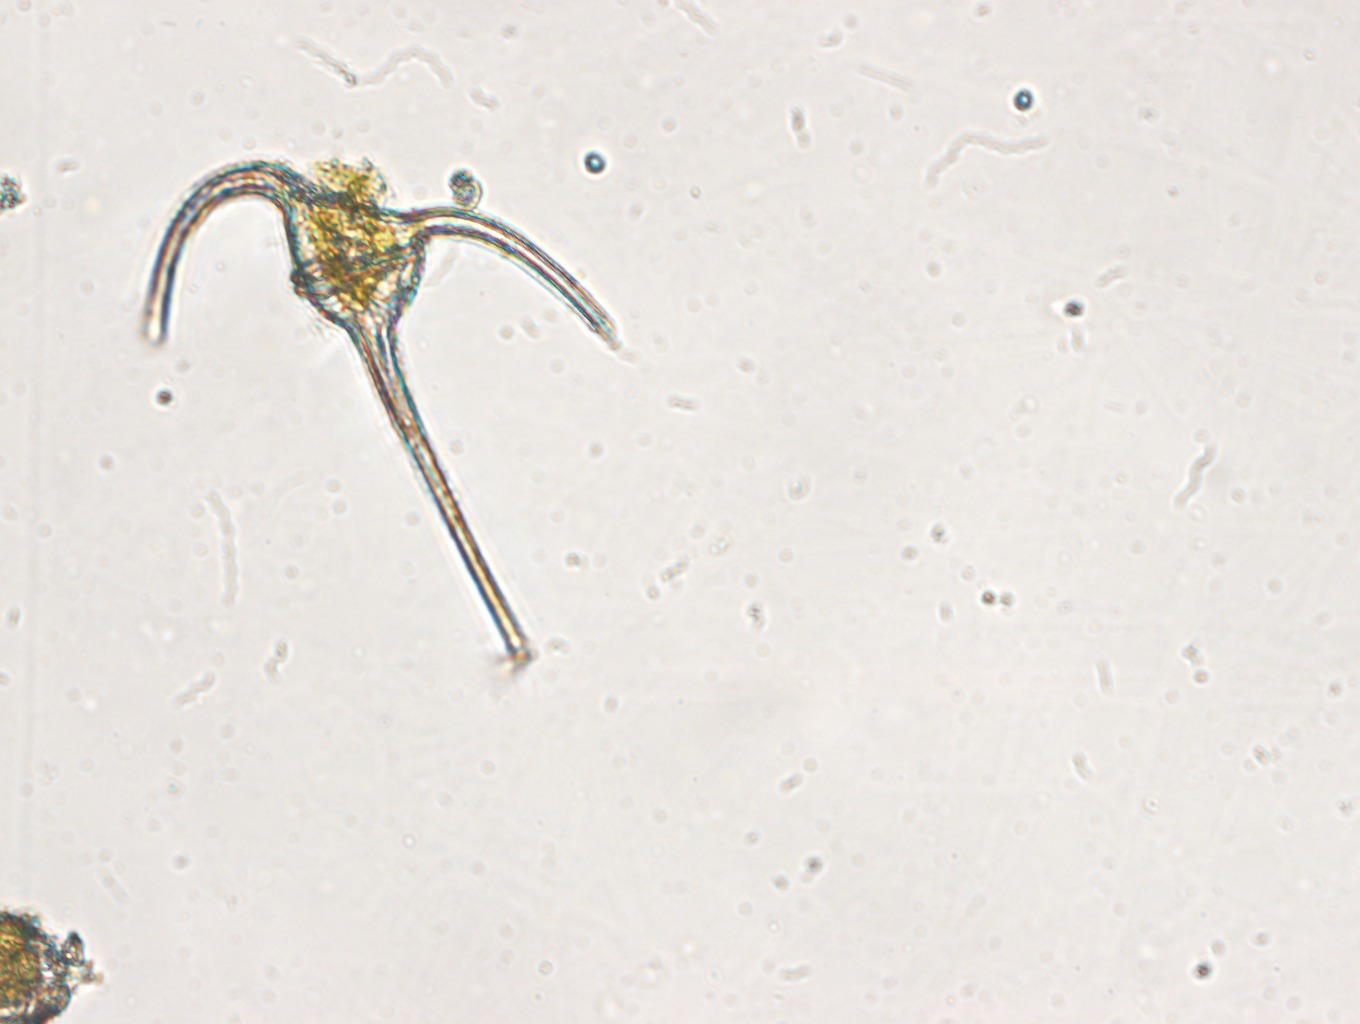ceratium trichoceros: (134, 150, 626, 675)
